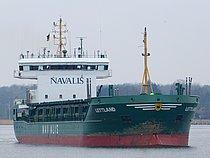Ship: (8, 12, 204, 152)
